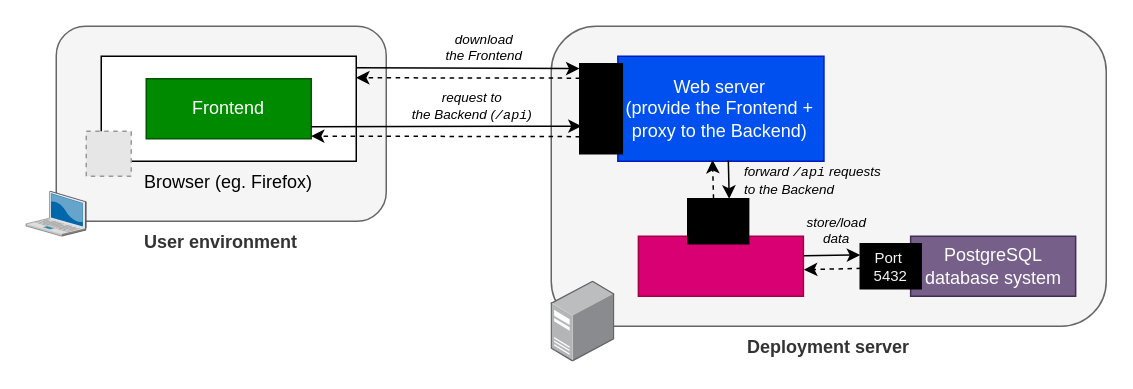
Image size: 1133x389. Some labels were removed from this diagram. Grey dashed boxes stand in for pictures. The shapes that lost their labels are listed below. From the top down, each one's centre as x and y in pixels, then its label:
At (x=600, y=108): "Port 80".
At (x=717, y=220): "Port 8080".
At (x=720, y=265): "Backend".
